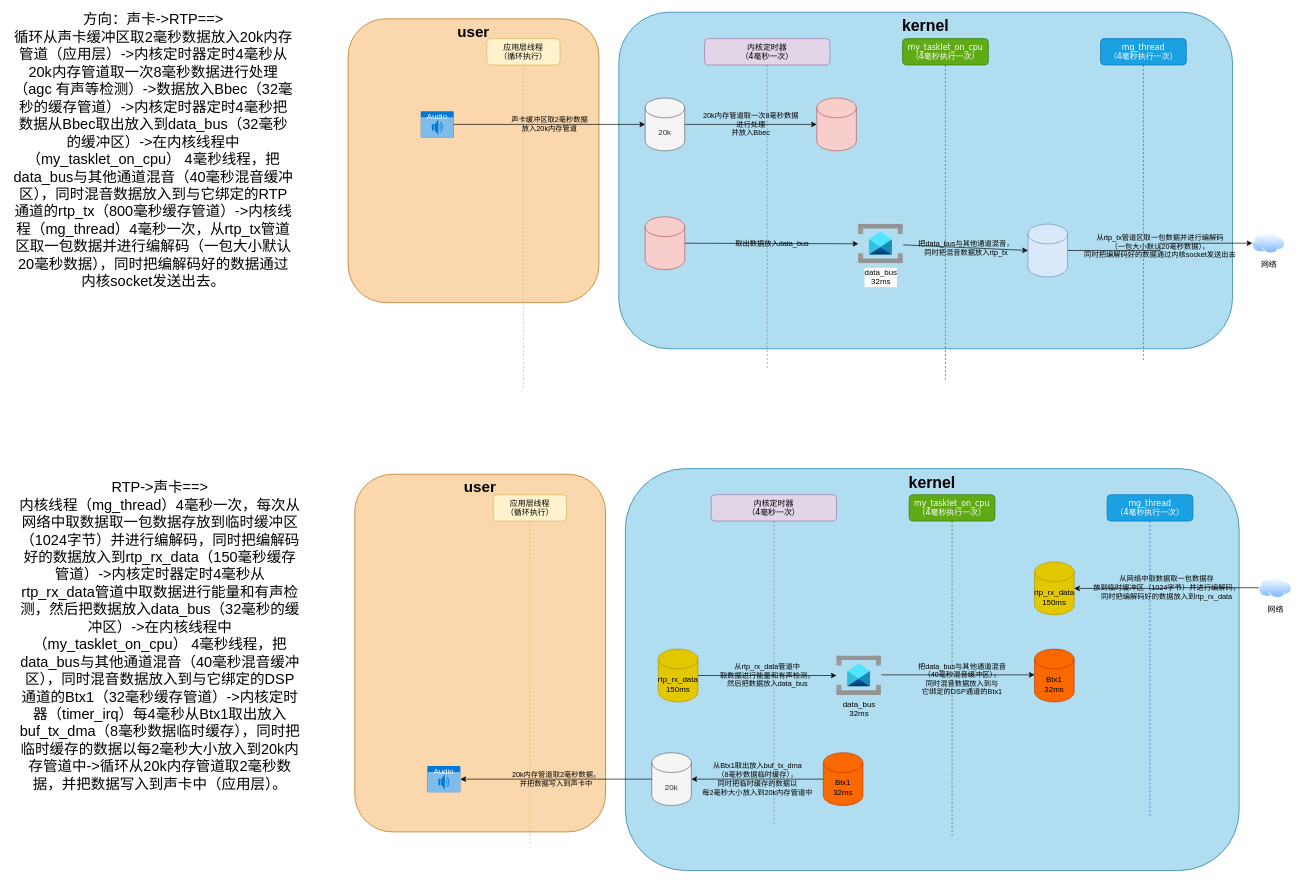
The diagram is 1303 pixels wide and 882 high, and some of its shapes have lost their labels. The box of each missing label's shape, as (x1, y1, x2, y2) in pixels:
Bbec: (644, 216, 685, 270)
Bbec 32ms: (816, 97, 856, 151)
rtp_tx 800ms: (1027, 223, 1068, 277)
